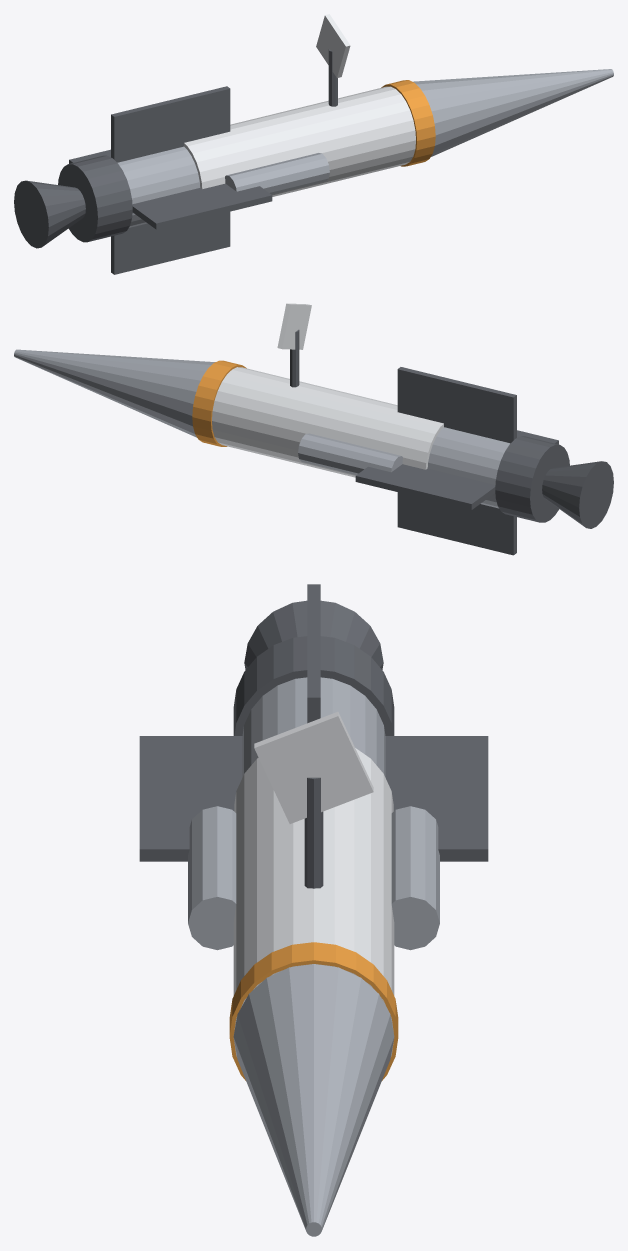
File: hayate.glb
The picture shows the model from 3 angles, top to bottom: view 1: azimuth 30°, elevation 25°; view 2: azimuth 150°, elevation 25°; view 3: azimuth 270°, elevation 25°; orthographic projection. The views are drawn at different scales.
Parts seen in each view (by area): view 1: hayate_hull, hayate_nose, hayate_fin_1, hayate_fin_3, hayate_engine, hayate_nozzle, hayate_fin_2, hayate_aft_hull, hayate_pod_1, hayate_collar, hayate_dish, hayate_mast; view 2: hayate_hull, hayate_nose, hayate_fin_1, hayate_fin_3, hayate_engine, hayate_nozzle, hayate_fin_0, hayate_aft_hull, hayate_pod_0, hayate_collar, hayate_dish, hayate_mast; view 3: hayate_nose, hayate_hull, hayate_fin_0, hayate_fin_2, hayate_dish, hayate_engine, hayate_pod_0, hayate_pod_1, hayate_aft_hull, hayate_collar, hayate_nozzle, hayate_mast (+1 smaller).
Part boxes in pixels (box(x1,y1,x2,y2)): hayate_hull: box(184, 86, 415, 196); hayate_nose: box(413, 69, 613, 156); hayate_fin_1: box(111, 86, 230, 162); hayate_fin_3: box(111, 211, 230, 274); hayate_engine: box(58, 155, 132, 242); hayate_nozzle: box(14, 180, 85, 248); hayate_fin_2: box(132, 183, 272, 229); hayate_aft_hull: box(117, 146, 200, 227); hayate_pod_1: box(225, 153, 329, 194); hayate_collar: box(381, 80, 435, 166); hayate_dish: box(316, 14, 350, 77); hayate_mast: box(328, 49, 337, 106); hayate_hull: box(212, 367, 443, 477); hayate_nose: box(14, 349, 215, 437); hayate_fin_1: box(397, 367, 516, 443); hayate_fin_3: box(397, 492, 516, 555); hayate_engine: box(495, 436, 569, 522); hayate_nozzle: box(542, 461, 613, 528); hayate_fin_0: box(355, 464, 495, 509); hayate_aft_hull: box(427, 427, 509, 508); hayate_pod_0: box(298, 433, 402, 475); hayate_collar: box(192, 360, 246, 446); hayate_dish: box(277, 303, 311, 349); hayate_mast: box(290, 329, 299, 387); hayate_nose: box(233, 964, 394, 1236); hayate_hull: box(233, 748, 394, 1056); hayate_fin_0: box(385, 736, 488, 861); hayate_fin_2: box(139, 736, 242, 861); hayate_dish: box(254, 711, 373, 823); hayate_engine: box(233, 636, 394, 735); hayate_pod_0: box(391, 806, 439, 950); hayate_pod_1: box(188, 806, 236, 950); hayate_aft_hull: box(242, 677, 385, 777); hayate_collar: box(229, 942, 398, 1080); hayate_nozzle: box(244, 600, 383, 669); hayate_mast: box(304, 777, 323, 888).
Size of the model in its own units: 50 by 16.53 by 13.
